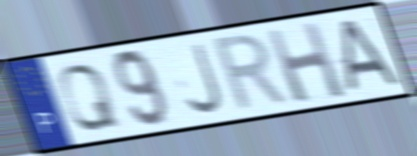9: (113, 47, 172, 131)
A: (337, 16, 406, 95)
H: (262, 19, 350, 106)
J: (184, 40, 227, 118)
Q: (56, 62, 123, 133)
R: (210, 30, 295, 116)
